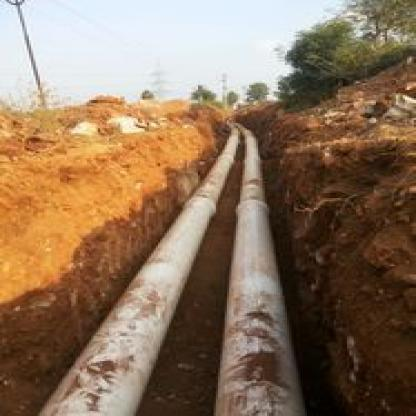PVC: (37, 123, 304, 414)
